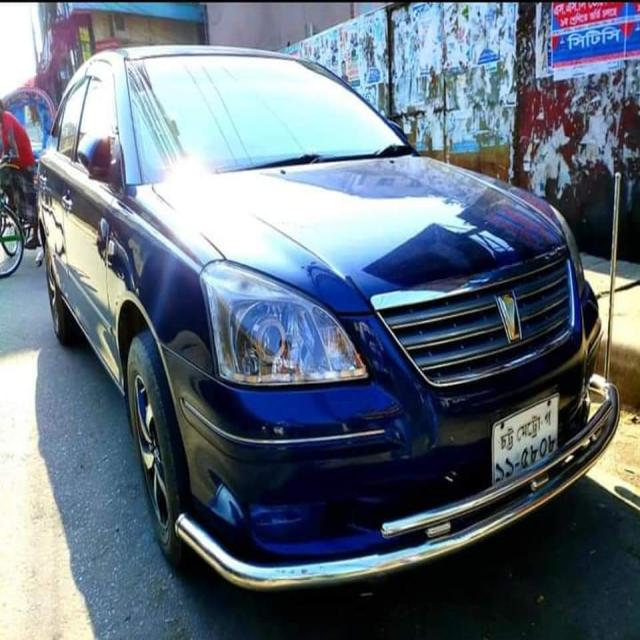blue: (39, 45, 626, 602)
